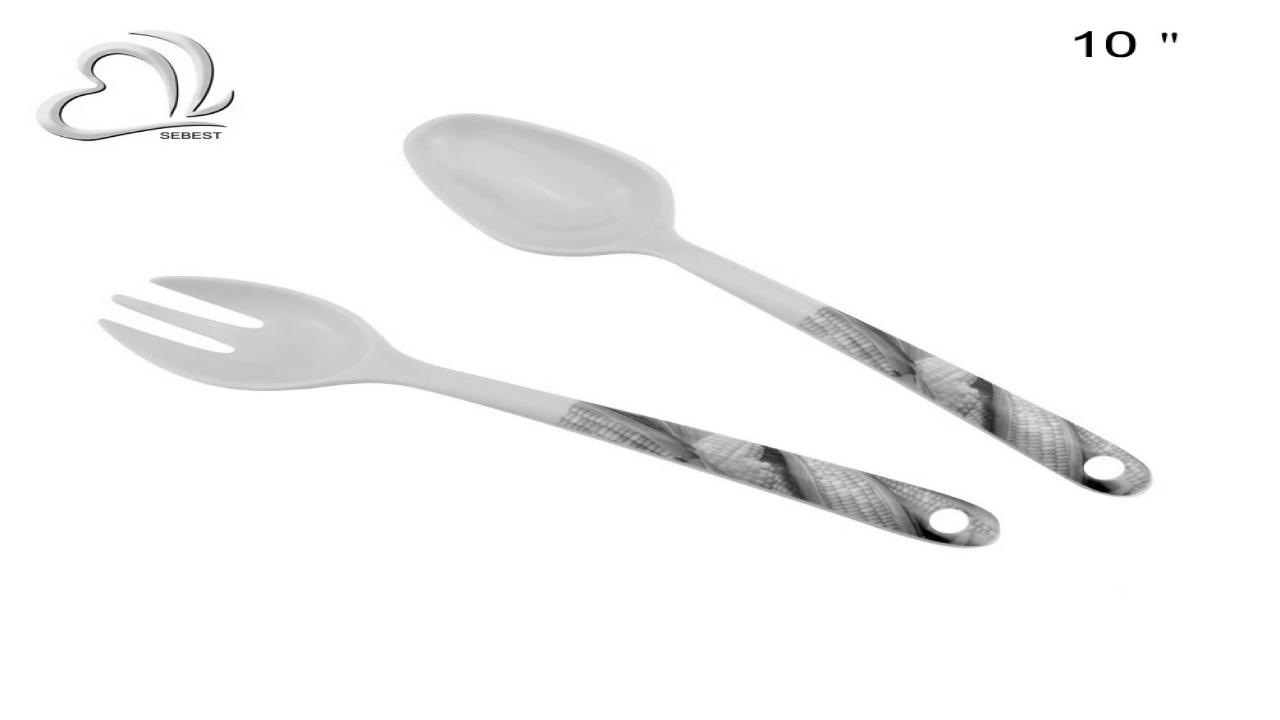fork: (96, 274, 1001, 548)
